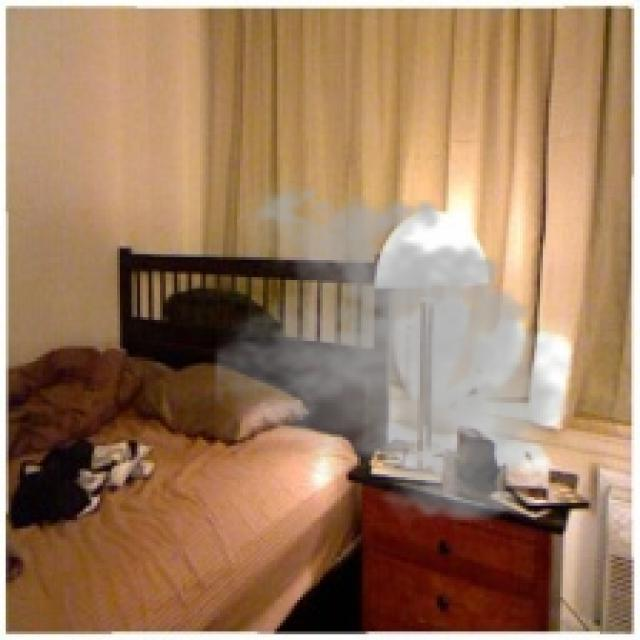Smoke: (211, 174, 580, 532)
